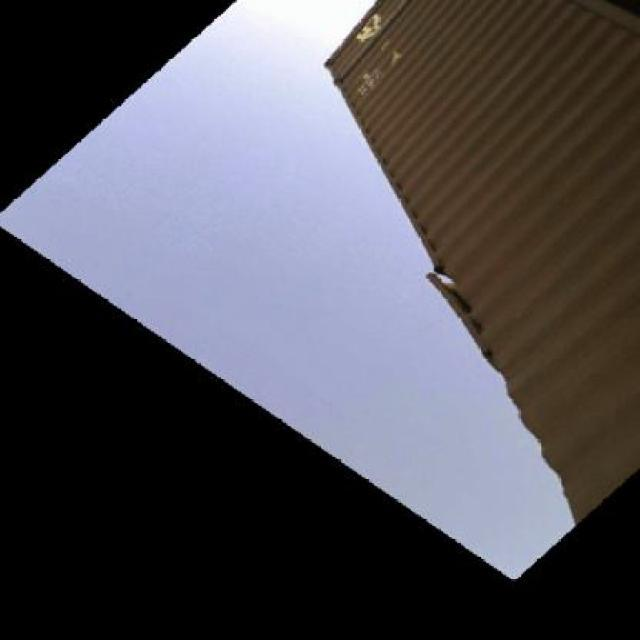hole: (399, 251, 518, 388)
